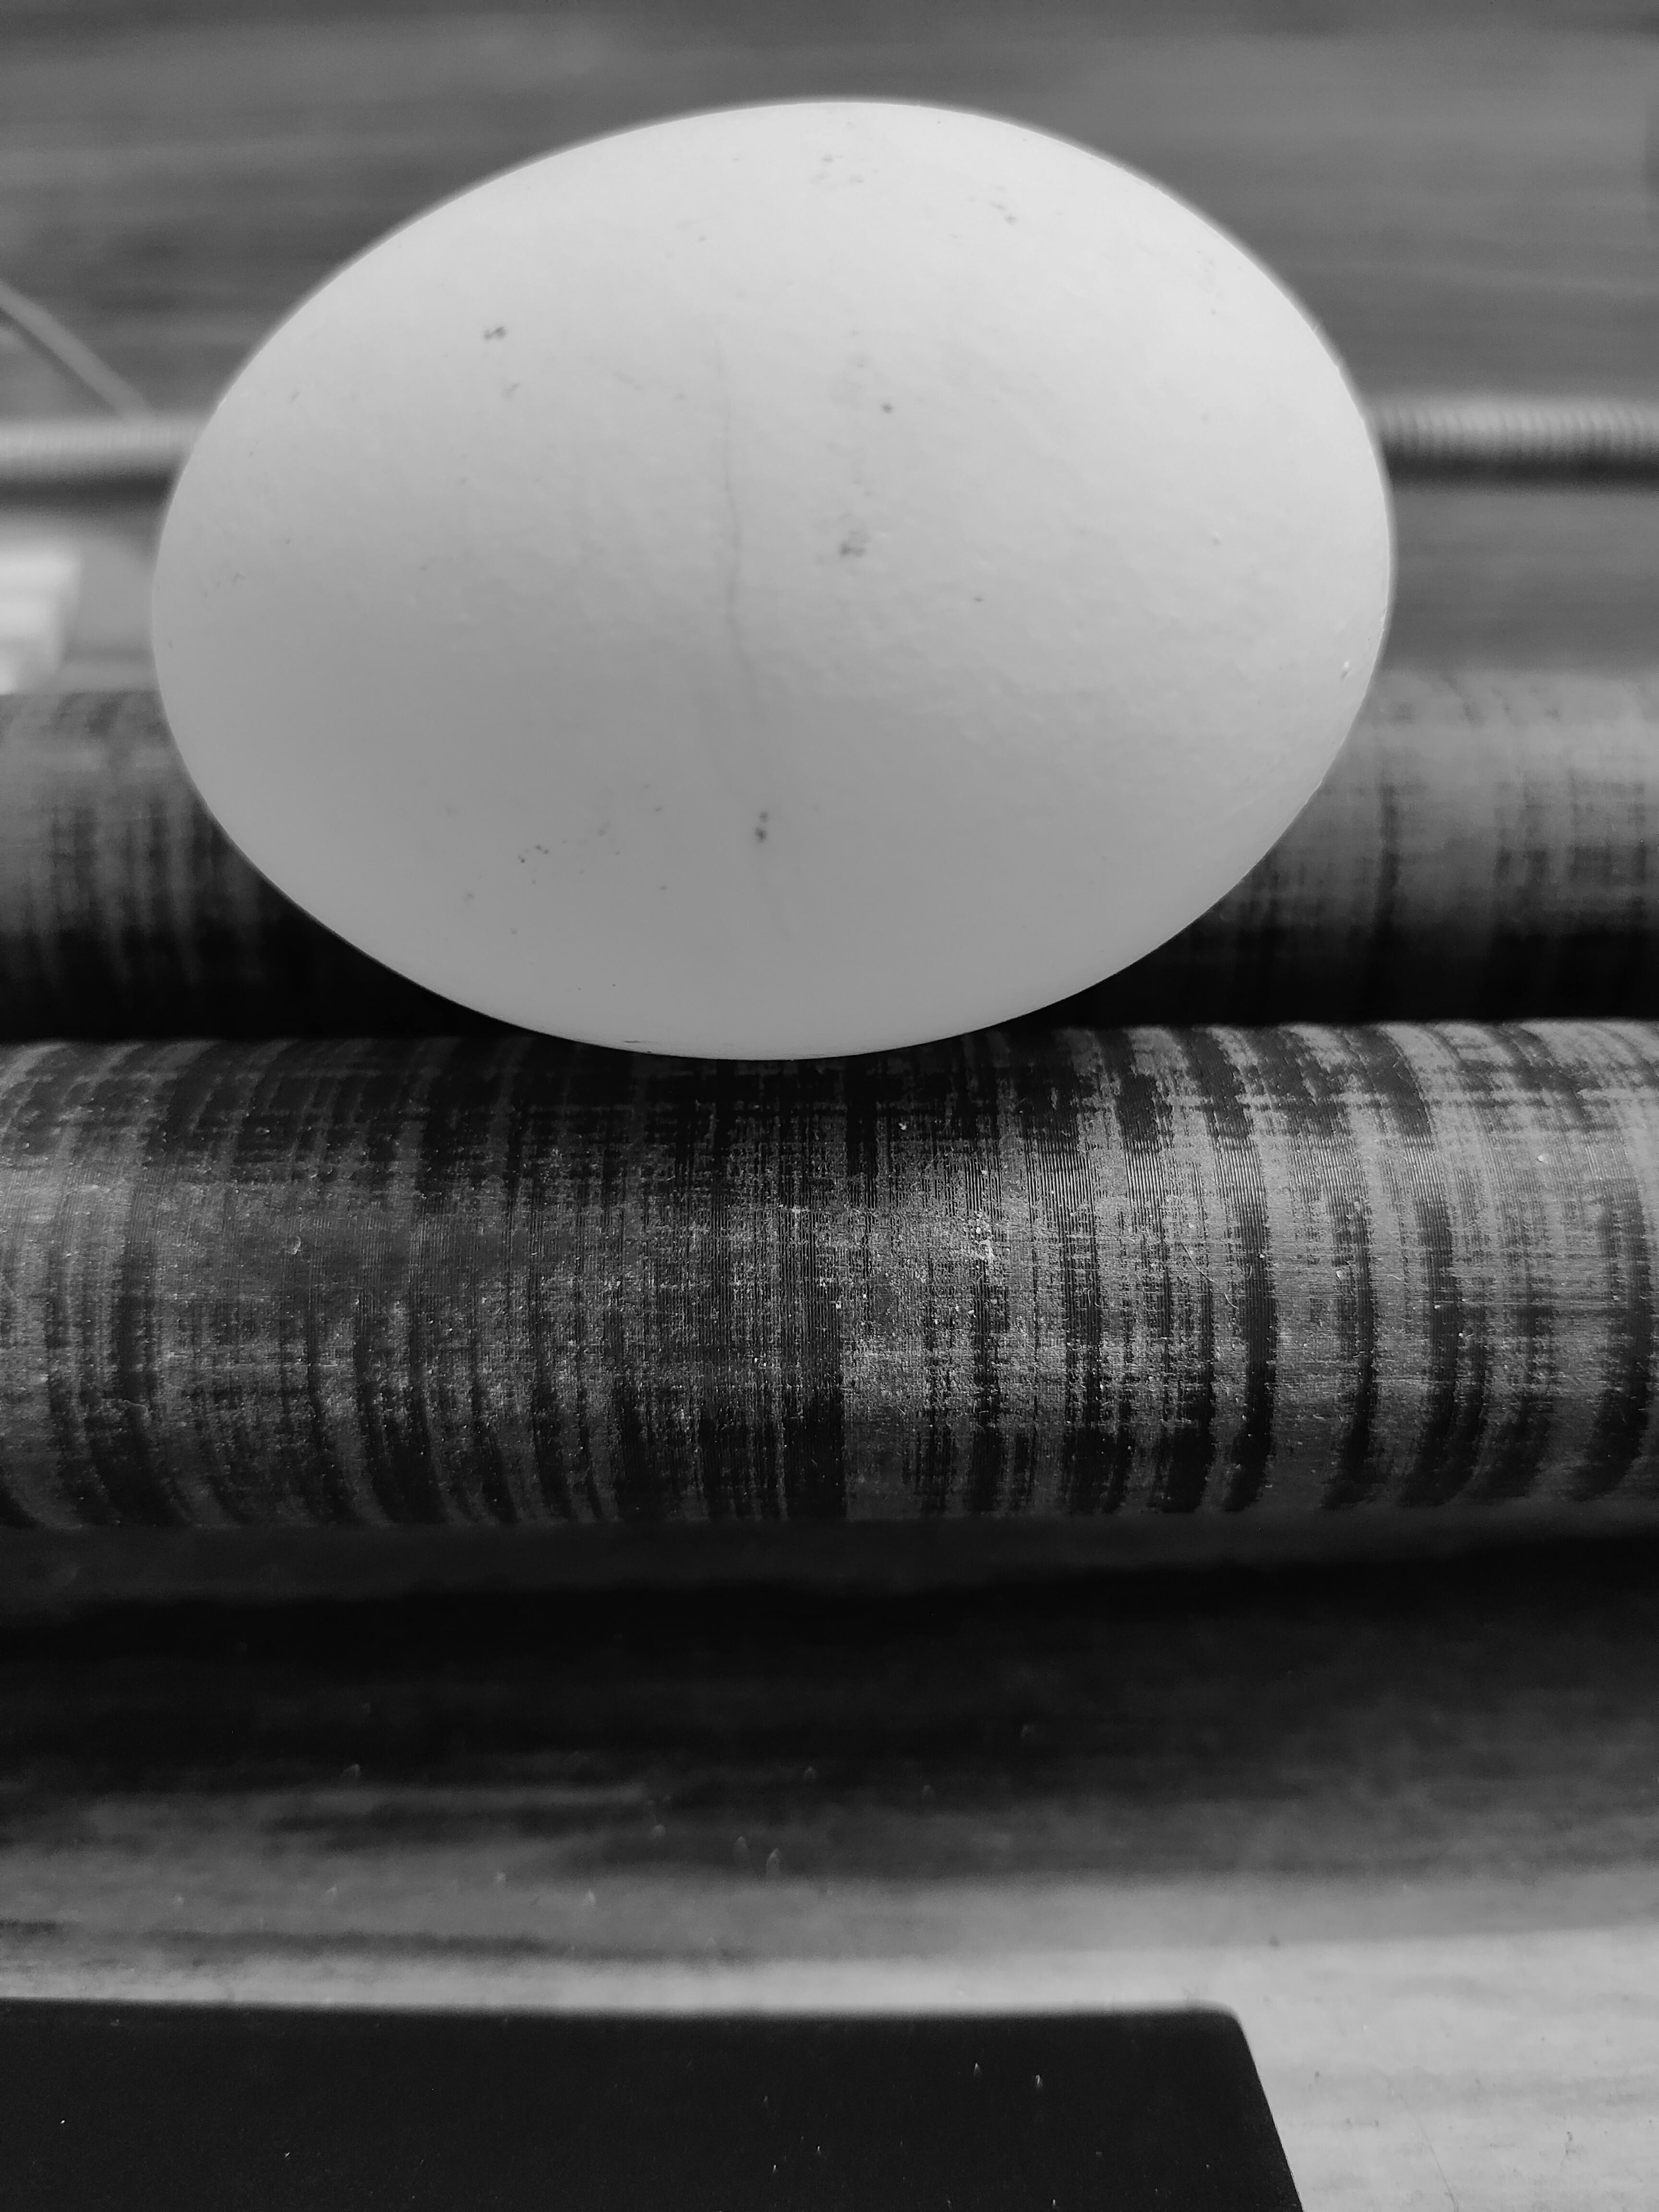telur: (120, 73, 1425, 1096)
